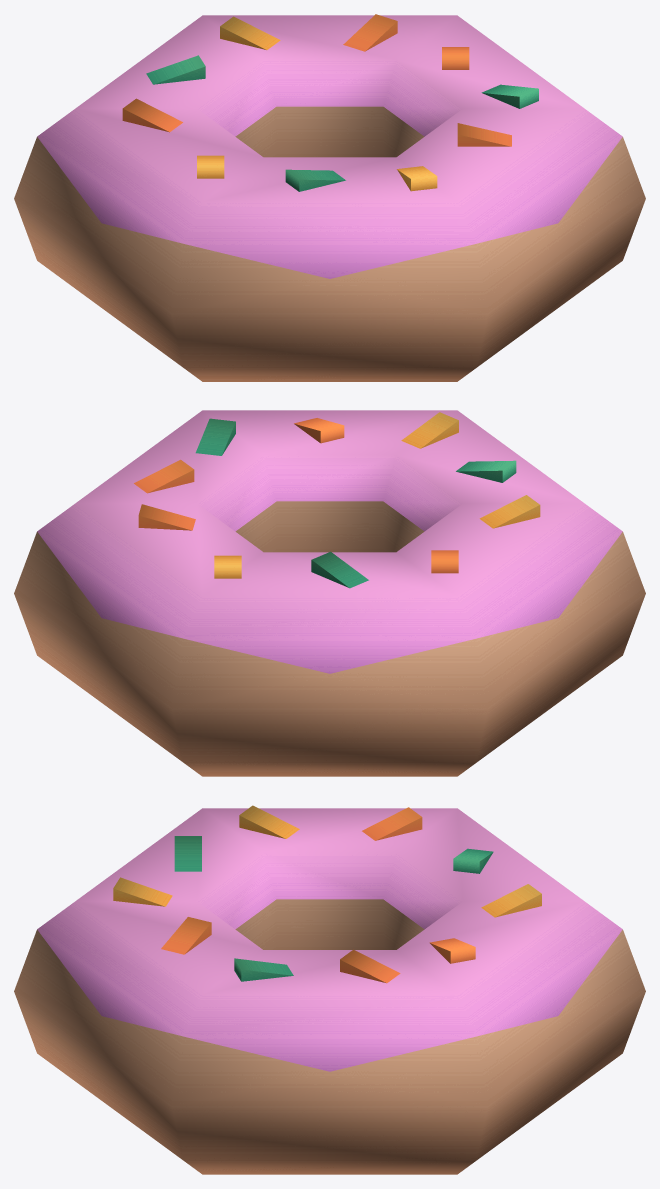
Rendered from donut-sprinkles.glb.
The picture shows the model from 3 angles, top to bottom: view 1: azimuth 30°, elevation 25°; view 2: azimuth 150°, elevation 25°; view 3: azimuth 270°, elevation 25°; orthographic projection.
Visible parts, largest first — view 1: donut-sprinkles; view 2: donut-sprinkles; view 3: donut-sprinkles.
Boxes of the visible parts, x1,y1,x2,y2 form: donut-sprinkles: (14, 14, 645, 381); donut-sprinkles: (14, 410, 645, 776); donut-sprinkles: (14, 805, 645, 1174).
Bounding box in the file's own units: 0.2451 × 0.095 × 0.283.
1 material, 1 textured.
